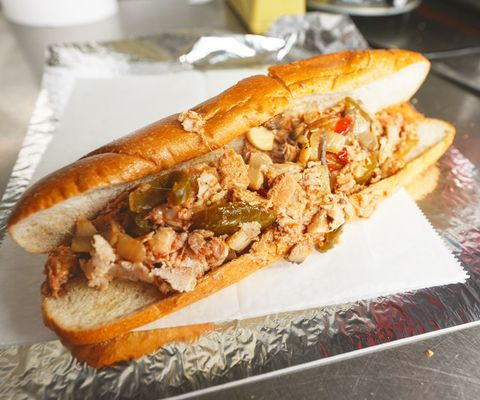soup: (10, 69, 459, 352), (267, 48, 430, 118)
